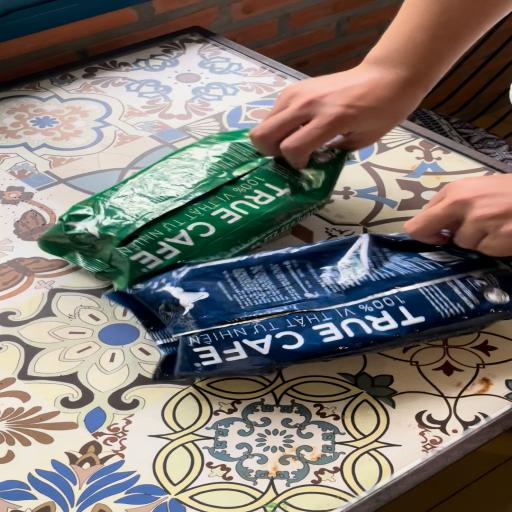cafe_hat: (108, 234, 512, 382)
cafe_xay: (38, 130, 347, 287)
